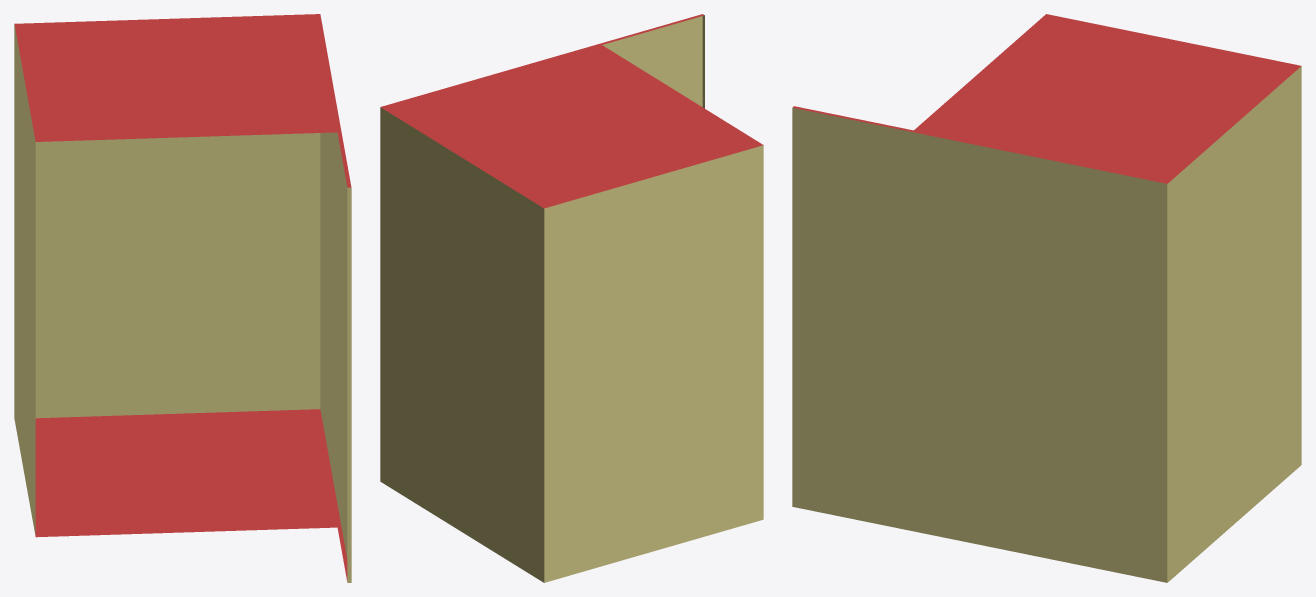
3 renders of one model, left to right at view 1: azimuth 30°, elevation 25°; view 2: azimuth 150°, elevation 25°; view 3: azimuth 270°, elevation 25°, orthographic. The views are drawn at different scales.
Size of the model in its own units: 8.7 by 11.02 by 9.53.
